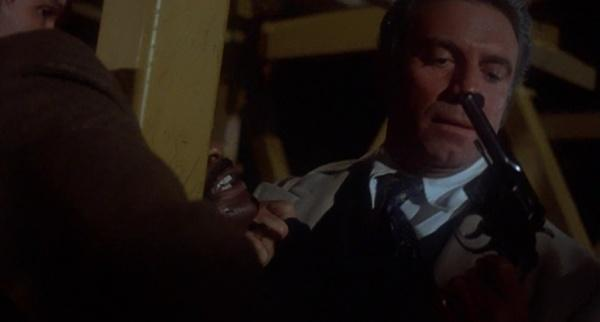Gun: (457, 89, 557, 266)
